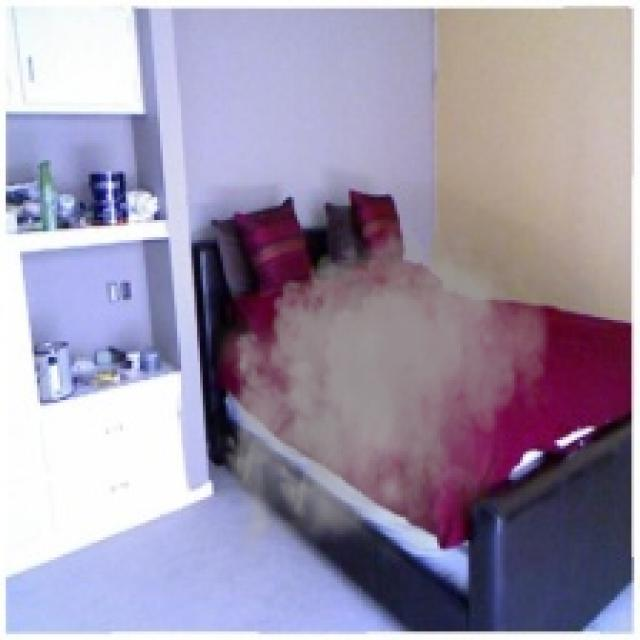Smoke: (208, 212, 560, 572)
